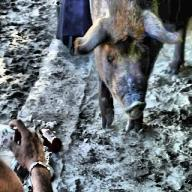boar: (70, 0, 192, 134)
